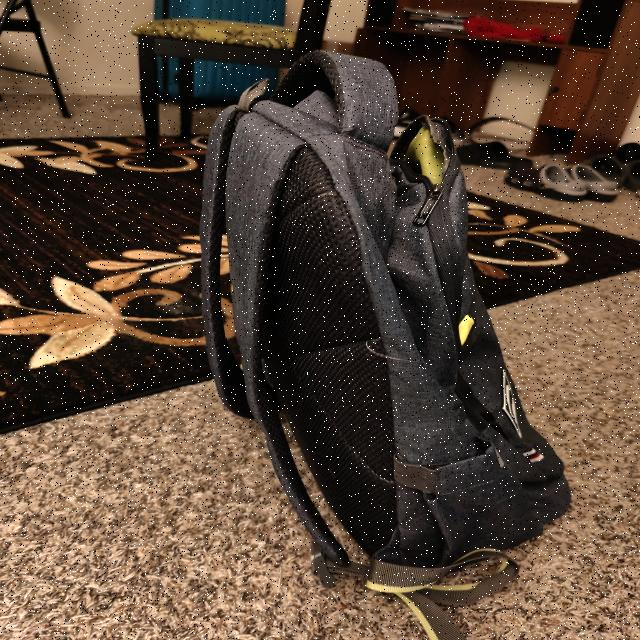bag: (210, 49, 568, 578)
